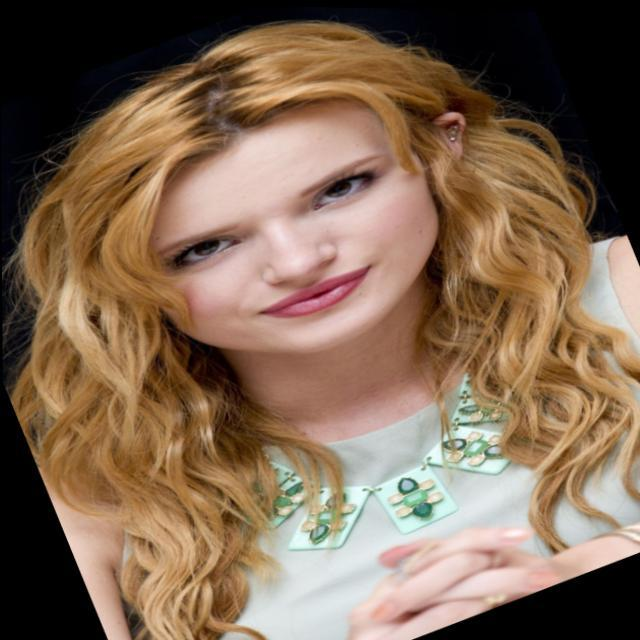Nonhelmet: (60, 10, 506, 400)
